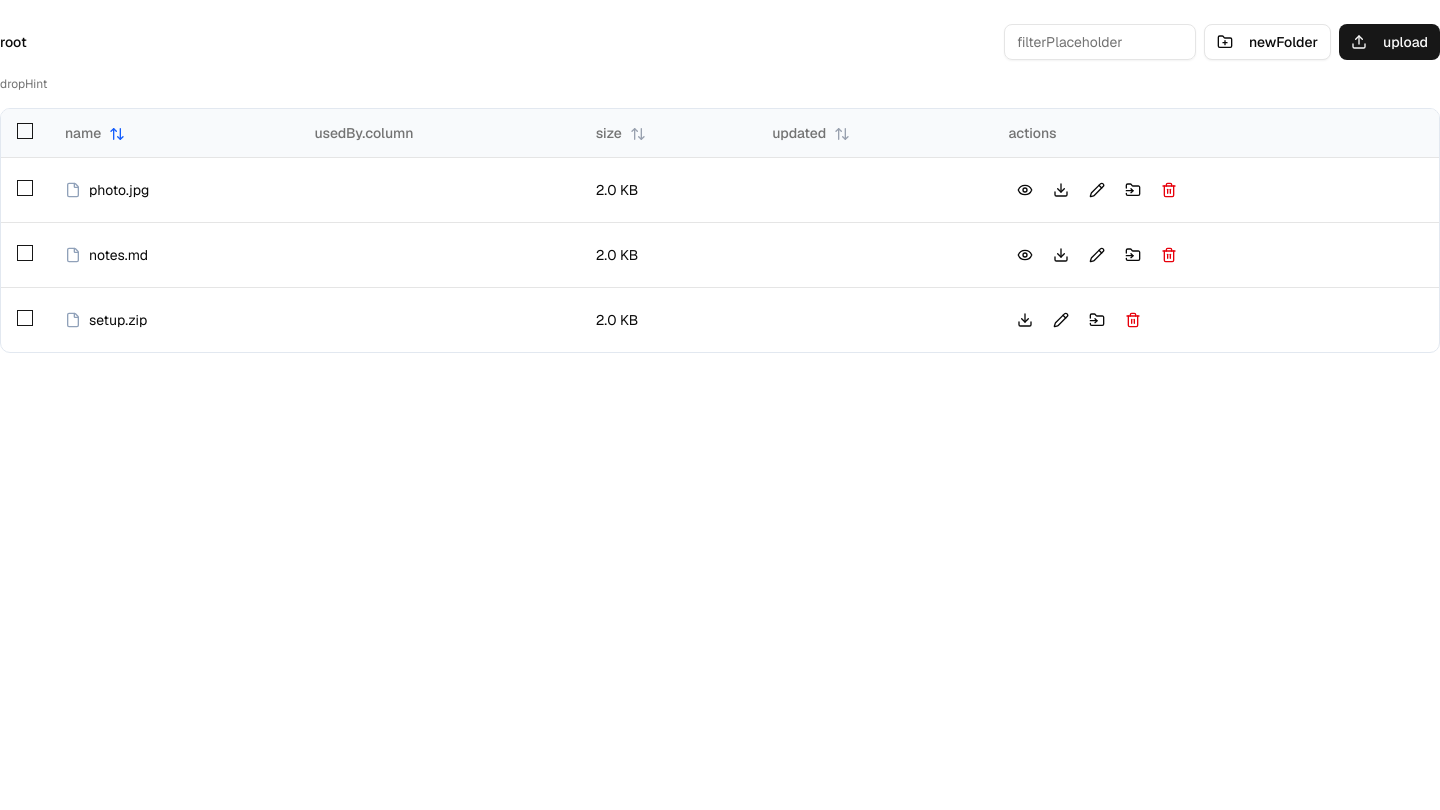
Test case: MediaBrowser › previews an image and a text file without downloading them
The image size is (1440, 810).
expect the text "setup.zip" is shown: met, box [89,310,147,330]
expect the number of buttons named "preview.open" is 2: met, box [1008,174,1040,206]; [1008,238,1040,270]
Click the button "photo.jpg" at [107, 190], box [65,180,149,200]
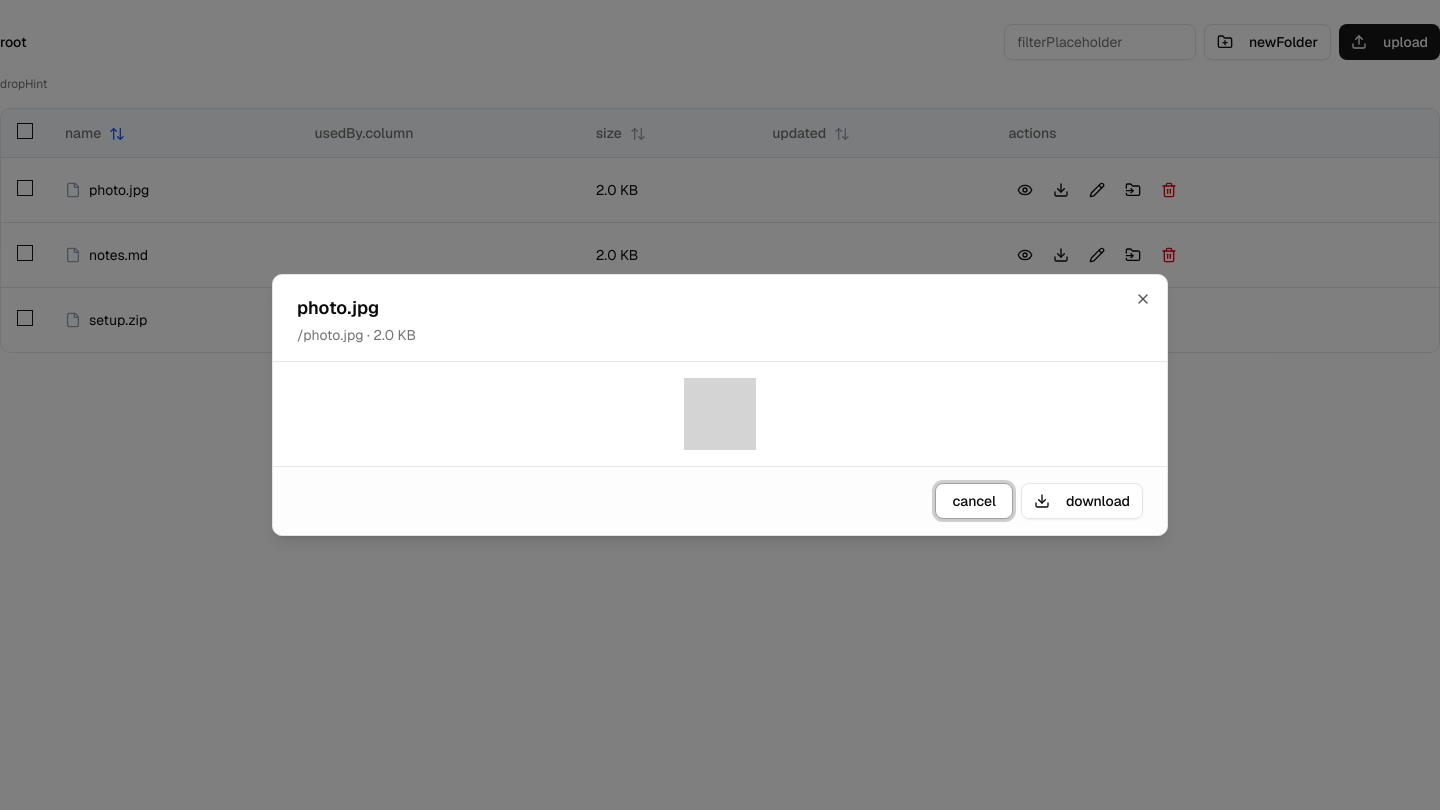
Press Escape in the button "cancel", box [935,483,1013,519]
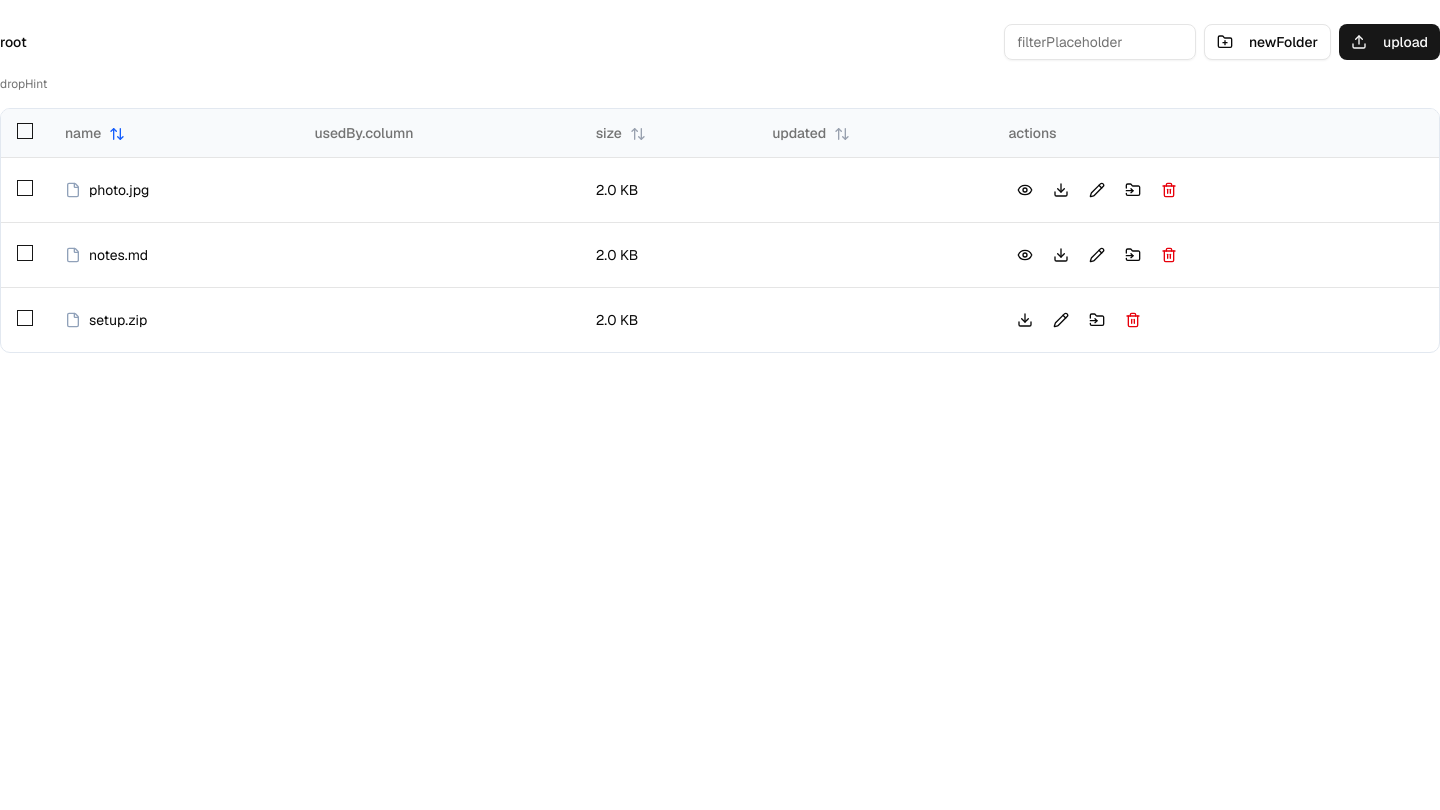
Click the 2nd button named "preview.open" at [1024, 254], box [1008,238,1040,270]
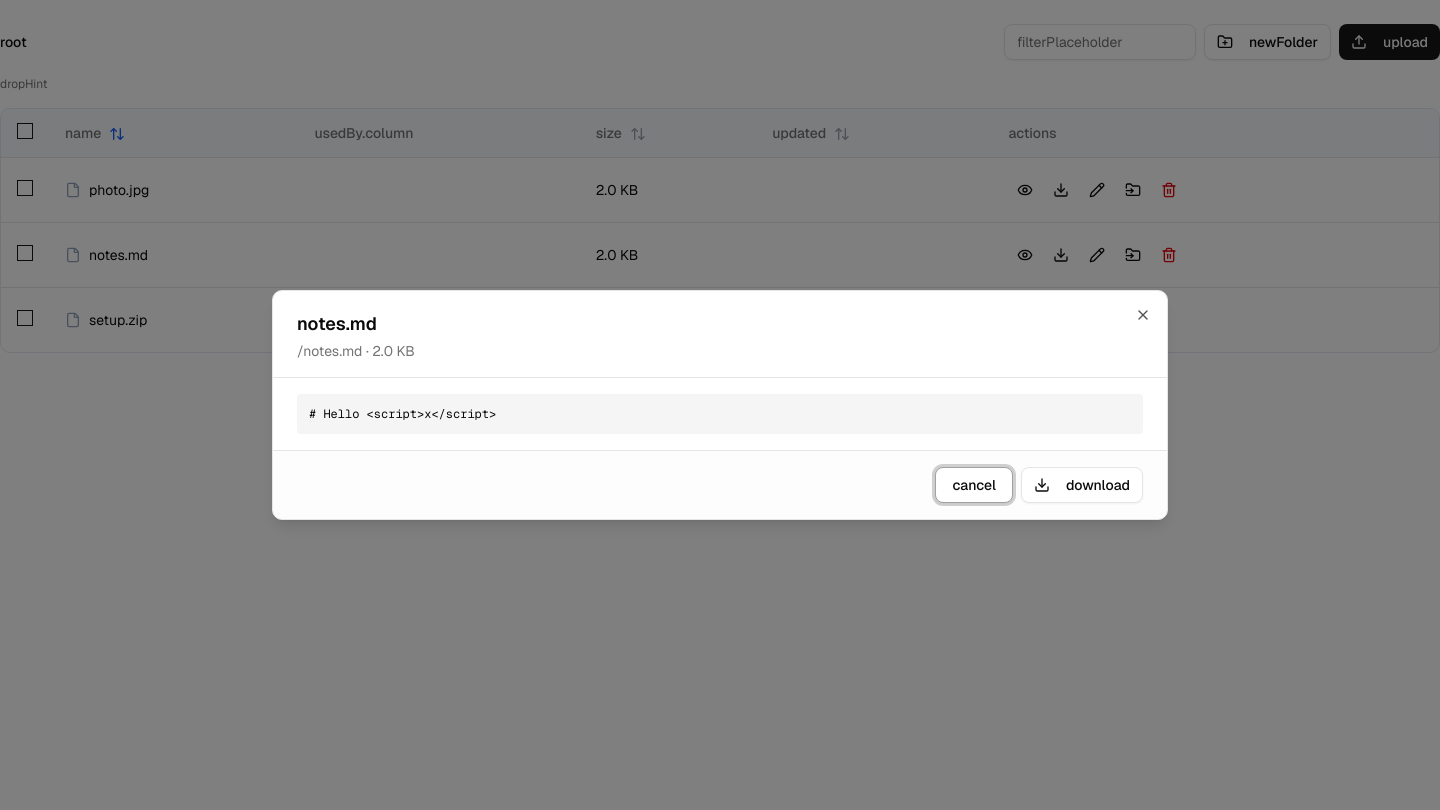
expect the text "# Hello <script>x</script>" is shown: met, box [297,394,1143,434]
